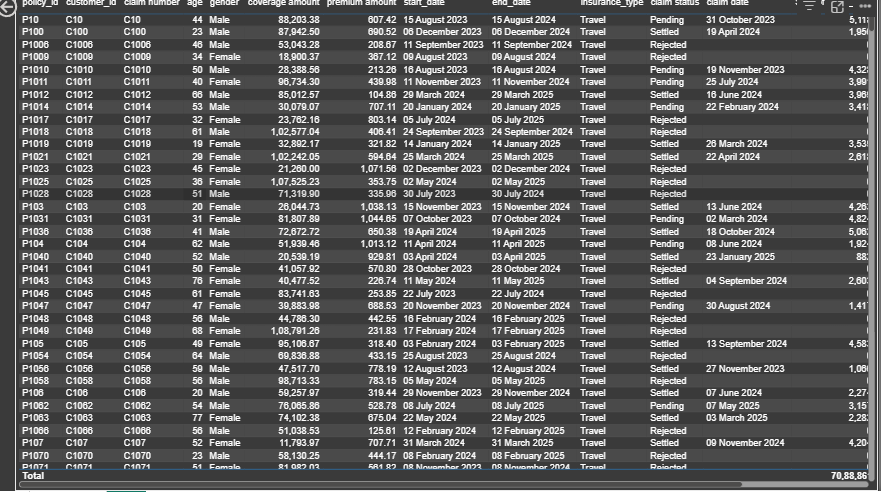

This screenshot's page, from the dashboard's own definition file:
{"tool":"powerbi","page":{"name":"Page 2","canvas":[1280,720],"ordinal":1},"visuals":[{"type":"tableEx","fields":{"Values":["public insurance.policy_id","public insurance.customer_id","public insurance.claim number","public insurance.age","public insurance.gender","public insurance.coverage amount","public insurance.premium amount","public insurance.start_date","public insurance.end_date","public insurance.insurance_type","public insurance.claim status","public insurance.claim date"]},"box":[31.8,0,1247.7,720],"z":0},{"type":"actionButton","box":[0,0,100,40],"z":1000}]}

Visuals, with their boxes on the page's 1280x720 design canvas (x1, y1, x2, y2). These are canvas units, not pixel positions in the 881x492 screenshot, which may show the page scaled, cropped or inside an application window:
tableEx - public insurance.policy_id x public insurance.customer_id: (x1=32, y1=0, x2=1280, y2=720)
actionButton: (x1=0, y1=0, x2=100, y2=40)
